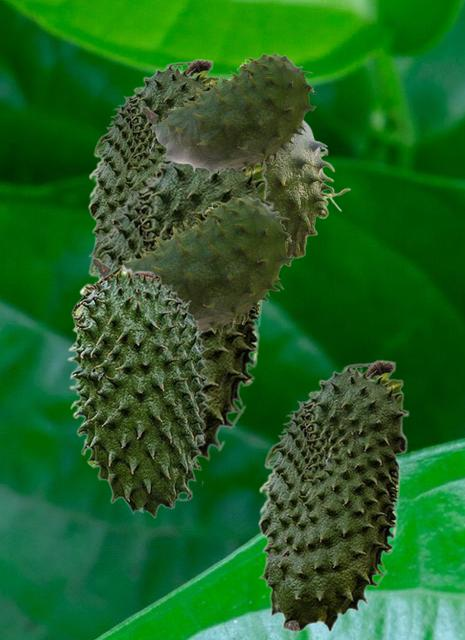guyabano: (80, 159, 273, 468), (257, 359, 408, 632), (67, 263, 211, 517), (91, 196, 293, 334), (87, 58, 220, 257), (141, 53, 315, 178), (264, 119, 350, 267)
